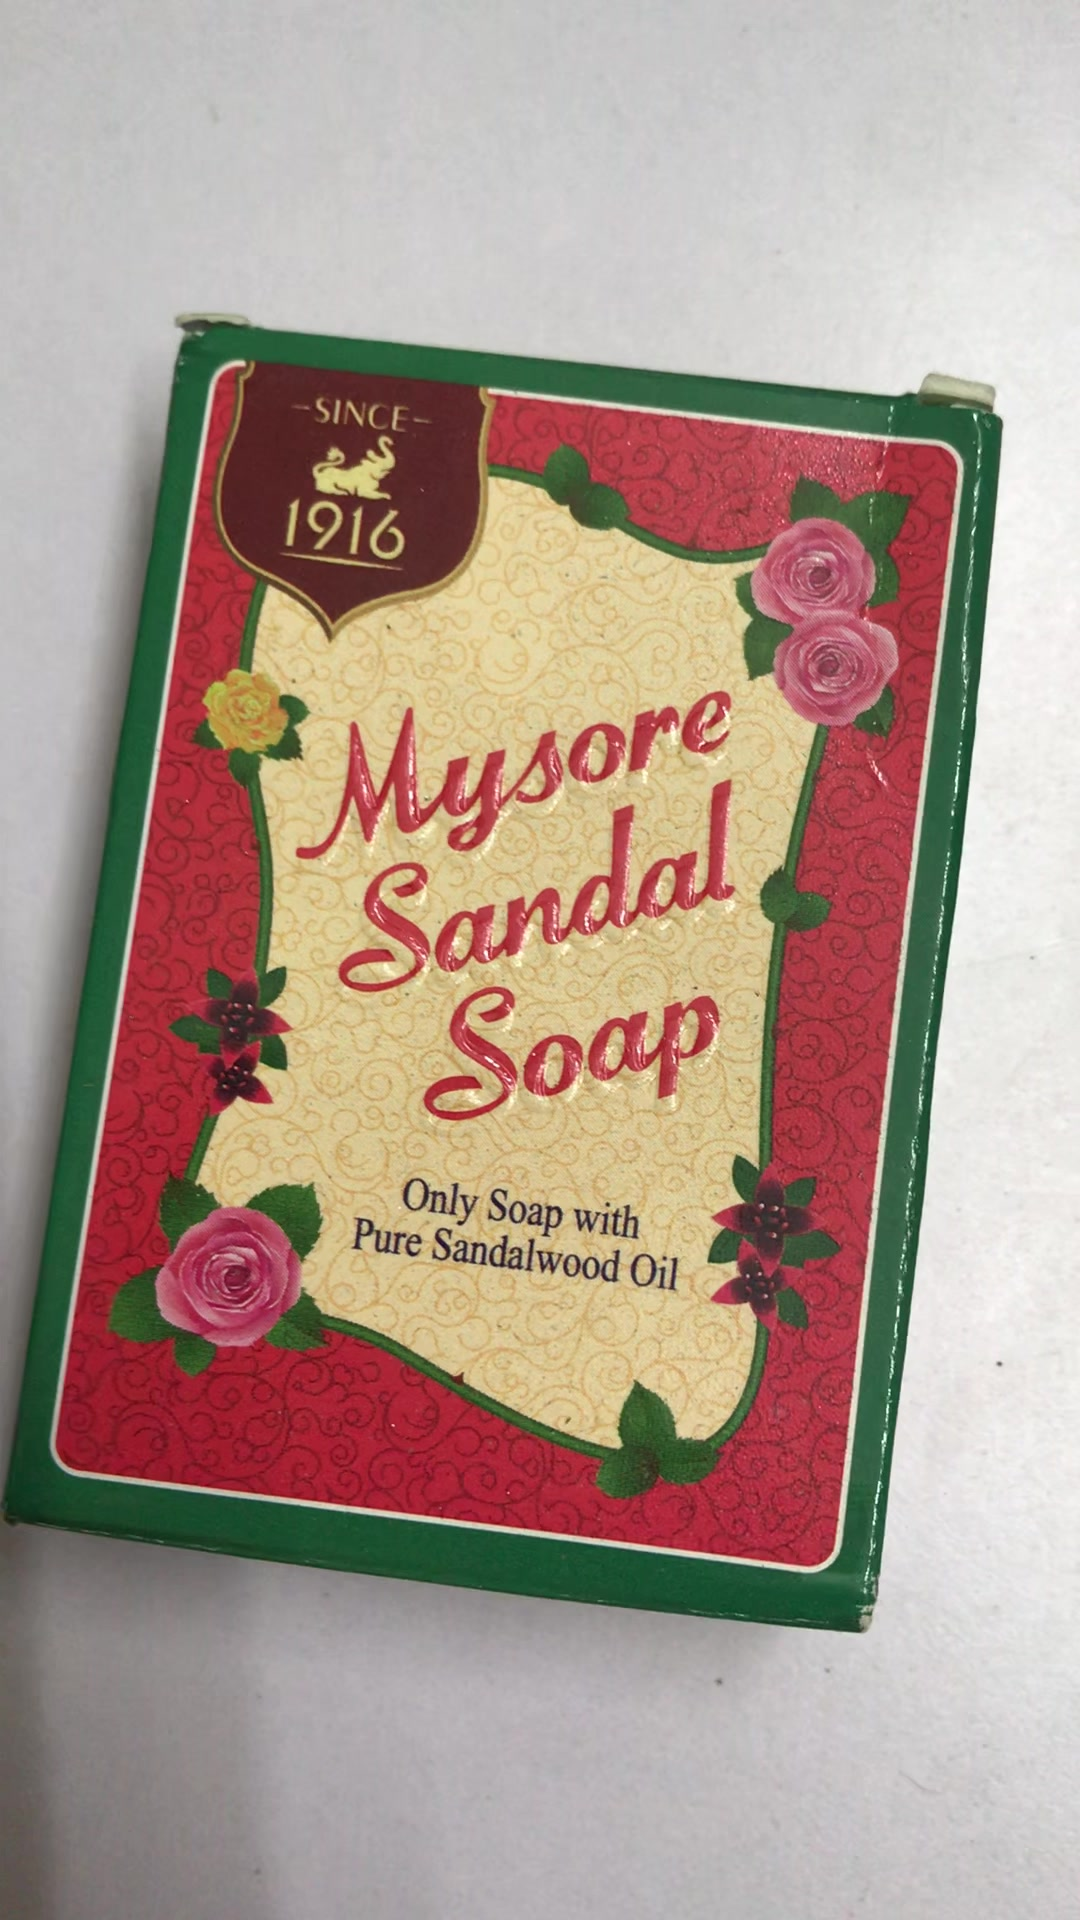mysore sandal soap: (7, 313, 996, 1631)
